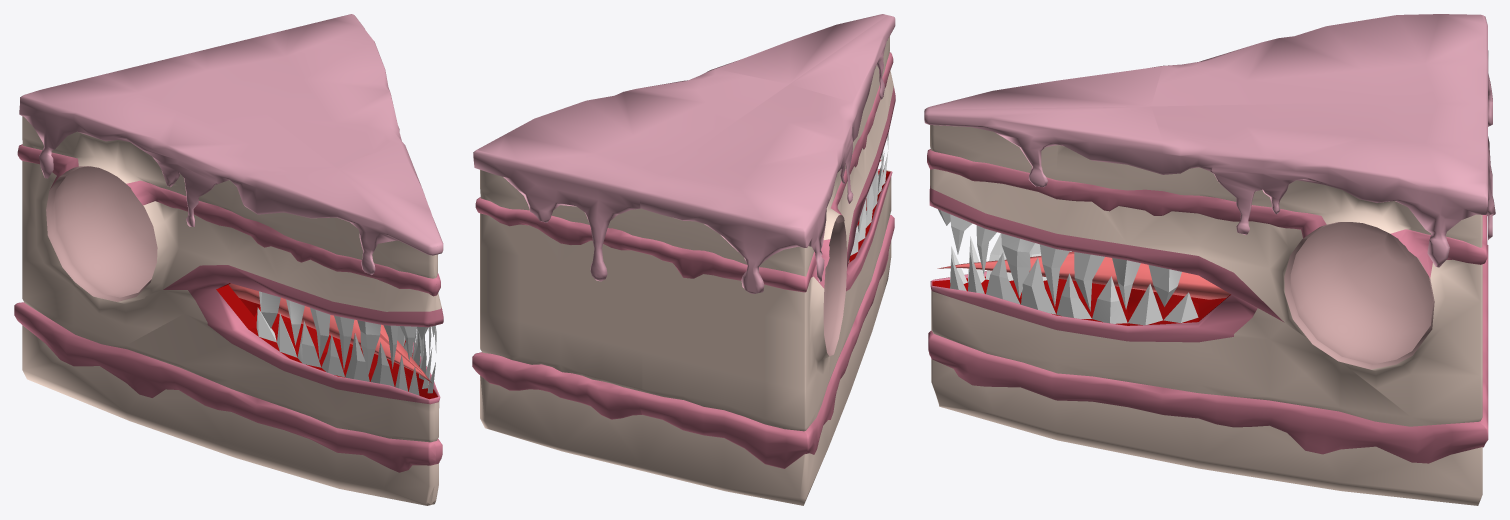
The model's file is cakeC.fbx.
The picture shows the model from 3 angles, left to right: view 1: azimuth 30°, elevation 25°; view 2: azimuth 150°, elevation 25°; view 3: azimuth 270°, elevation 25°; orthographic projection. The views are drawn at different scales.
Parts seen in each view (by area): view 1: CakeComplete2-2b.002; view 2: CakeComplete2-2b.002; view 3: CakeComplete2-2b.002.
Boxes of the visible parts, x1,y1,x2,y2 form: CakeComplete2-2b.002: (14, 14, 443, 505); CakeComplete2-2b.002: (472, 14, 895, 505); CakeComplete2-2b.002: (924, 14, 1495, 505).
Bounding box in the file's own units: 309 × 257 × 402.
